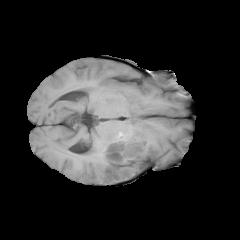glioma: (81, 111, 166, 182)
